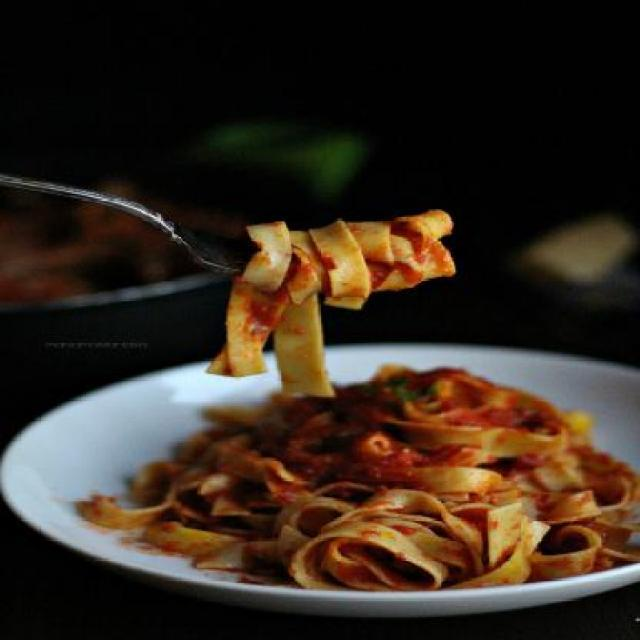Pasta al ragu: (159, 178, 507, 329)
